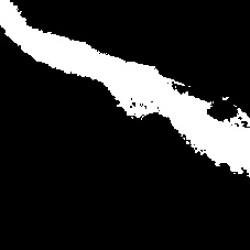crack: (0, 3, 250, 174)
pinhole: (219, 92, 233, 106)
